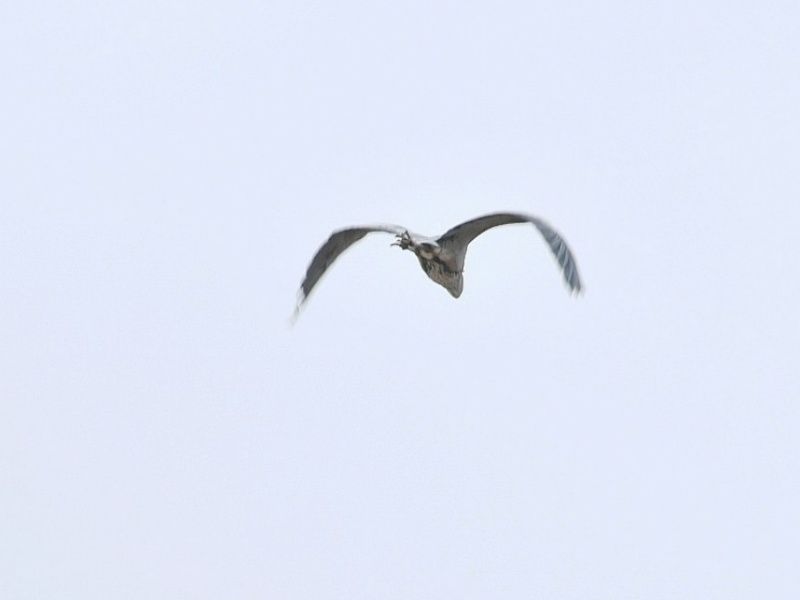heron: (298, 212, 590, 308)
